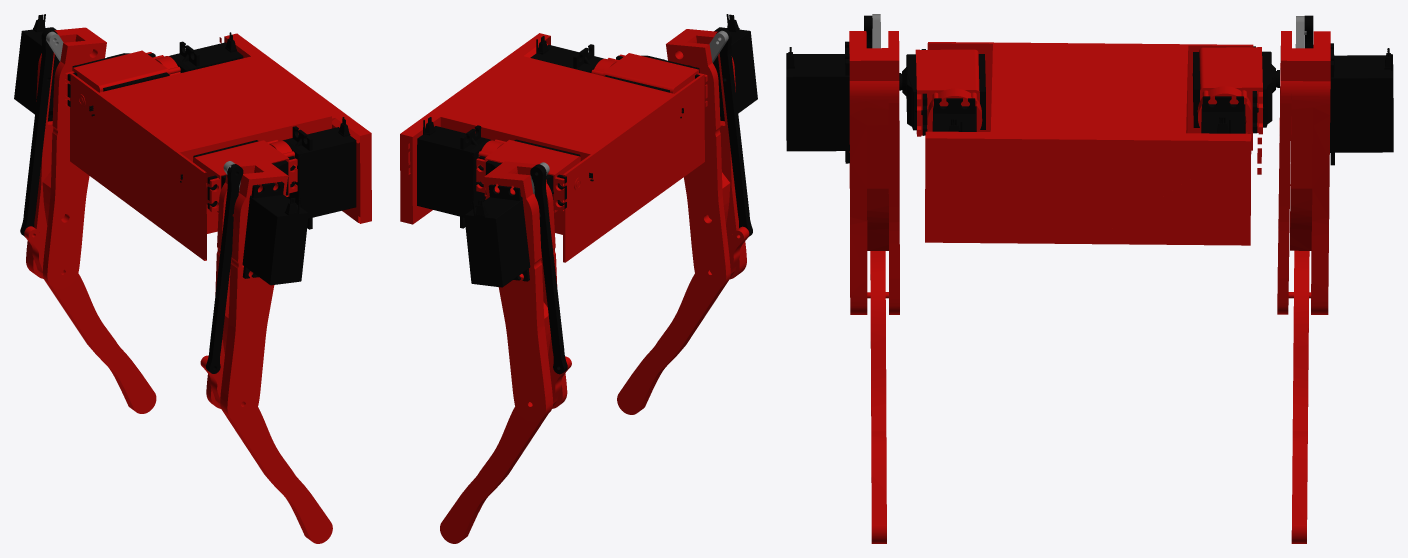
The model's file is stairclimber-lite.glb.
3 views of the same model, side by side, from view 1: azimuth 30°, elevation 25°; view 2: azimuth 150°, elevation 25°; view 3: azimuth 270°, elevation 25° (orthographic). The views are drawn at different scales.
Visible parts, largest first — view 1: base, right_femur, left_femur, right_hip, left_tibia, right_tibia, left_femur_servo, right_femur_servo, node17, node17.001, left_hip; view 2: base, left_femur, right_femur, left_hip, right_tibia, left_tibia, left_femur_servo, right_femur_servo, node17.001, node17, right_hip; view 3: base, left_femur, right_femur, left_femur_servo, right_femur_servo, left_tibia, right_tibia, left_hip, right_hip.
Boxes of the visible parts, left/top/right/bottom form: base: left=69, top=33, right=371, bottom=260; right_femur: left=206, top=160, right=308, bottom=420; left_femur: left=14, top=14, right=106, bottom=289; right_hip: left=282, top=117, right=356, bottom=229; left_tibia: left=24, top=226, right=156, bottom=413; right_tibia: left=200, top=355, right=332, bottom=543; left_femur_servo: left=65, top=50, right=180, bottom=116; right_femur_servo: left=180, top=139, right=297, bottom=212; node17: left=206, top=164, right=243, bottom=373; node17.001: left=20, top=28, right=57, bottom=237; left_hip: left=169, top=32, right=243, bottom=72; base: left=400, top=33, right=704, bottom=262; left_femur: left=464, top=161, right=567, bottom=421; right_femur: left=666, top=14, right=757, bottom=289; left_hip: left=417, top=117, right=491, bottom=228; right_tibia: left=617, top=226, right=749, bottom=414; left_tibia: left=440, top=356, right=571, bottom=543; left_femur_servo: left=476, top=139, right=593, bottom=212; right_femur_servo: left=591, top=53, right=707, bottom=118; node17.001: left=530, top=164, right=567, bottom=374; node17: left=716, top=28, right=752, bottom=236; right_hip: left=530, top=36, right=603, bottom=72; base: left=925, top=42, right=1261, bottom=245; left_femur: left=1277, top=31, right=1393, bottom=314; right_femur: left=786, top=31, right=899, bottom=314; left_femur_servo: left=1192, top=46, right=1279, bottom=134; right_femur_servo: left=899, top=49, right=985, bottom=136; left_tibia: left=1288, top=250, right=1311, bottom=543; right_tibia: left=867, top=251, right=888, bottom=543; left_hip: left=1201, top=96, right=1245, bottom=133; right_hip: left=932, top=98, right=976, bottom=131.
Size of what is drawn, in the model's own units: 0.1202 by 0.242 by 0.2797.
